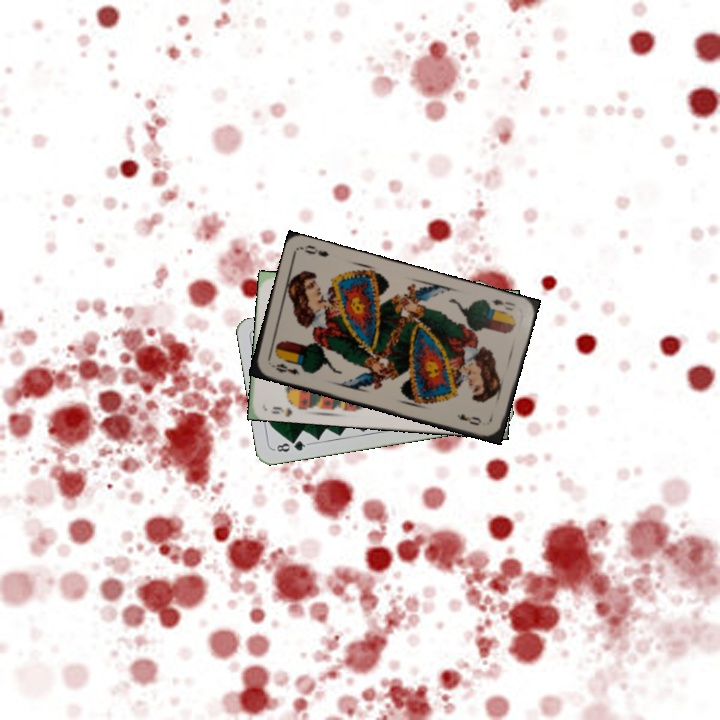EO: (267, 359, 302, 378), (487, 295, 518, 313)
G8: (270, 436, 311, 455)
S9: (268, 402, 295, 418)
